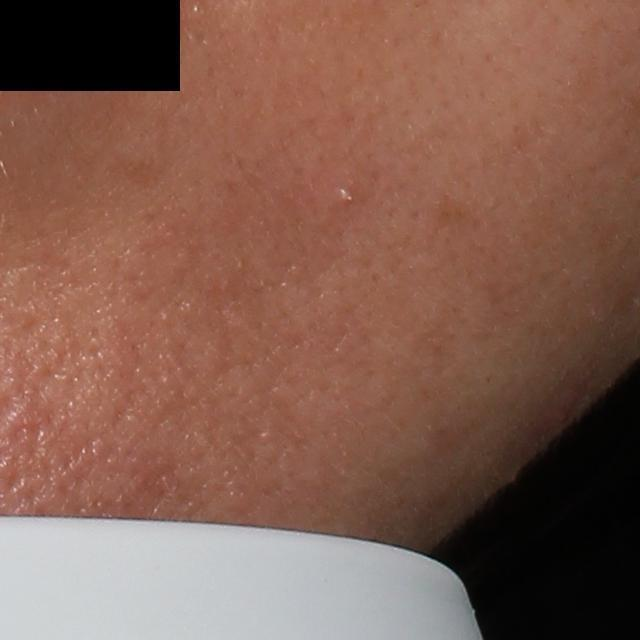pustule: (334, 176, 357, 206)
